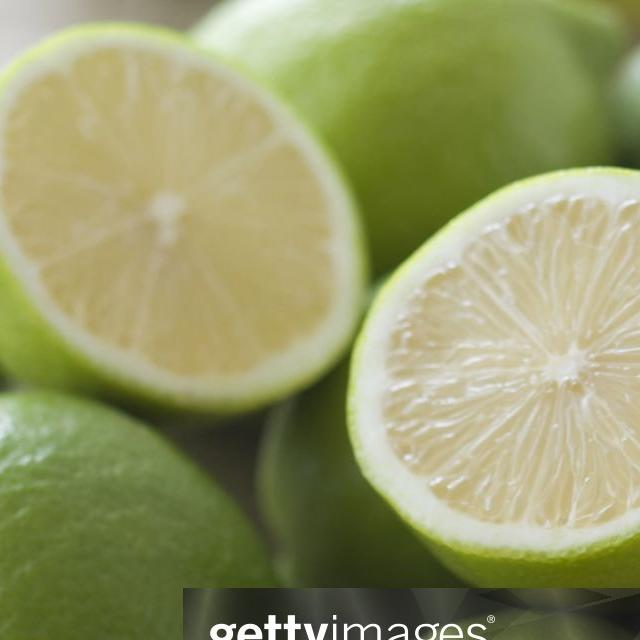lime: (0, 390, 281, 640)
